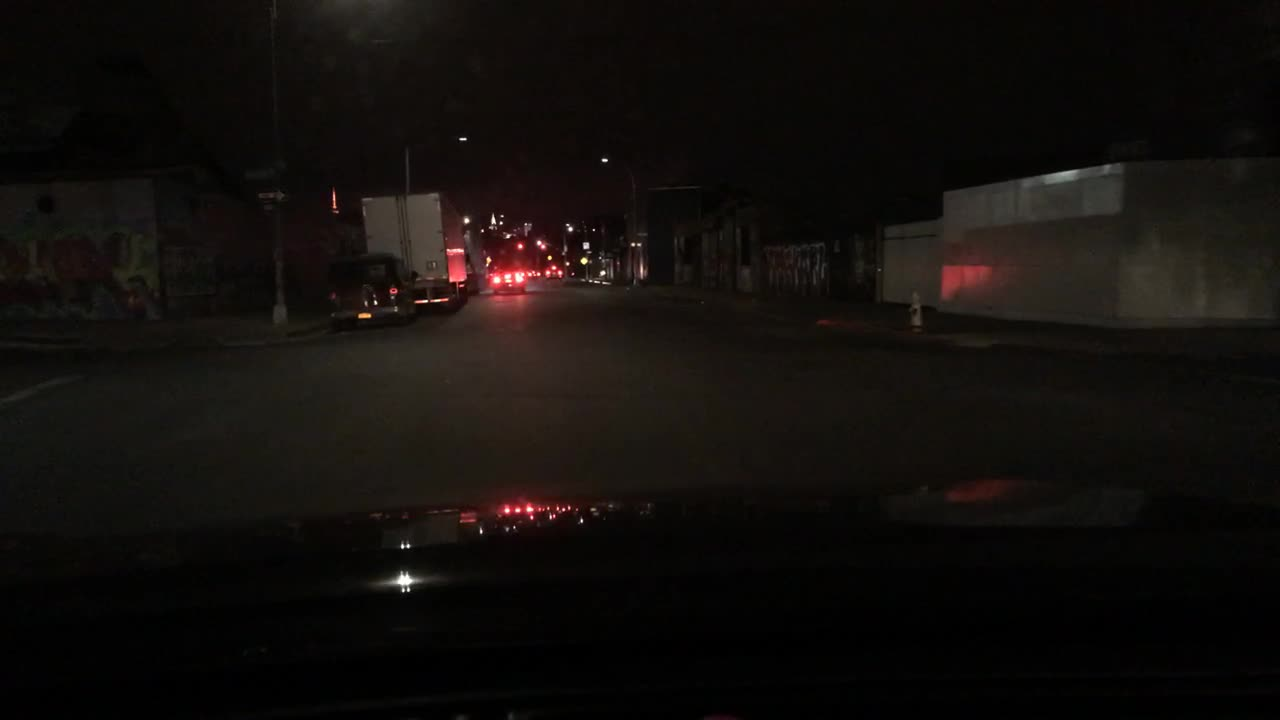car: (317, 254, 418, 326), (487, 263, 526, 296), (541, 263, 565, 281), (525, 268, 540, 278)
traffic light: (516, 239, 523, 251)
traffic sign: (245, 164, 284, 179), (251, 188, 287, 202)
truck: (352, 191, 472, 311), (465, 230, 489, 290)
